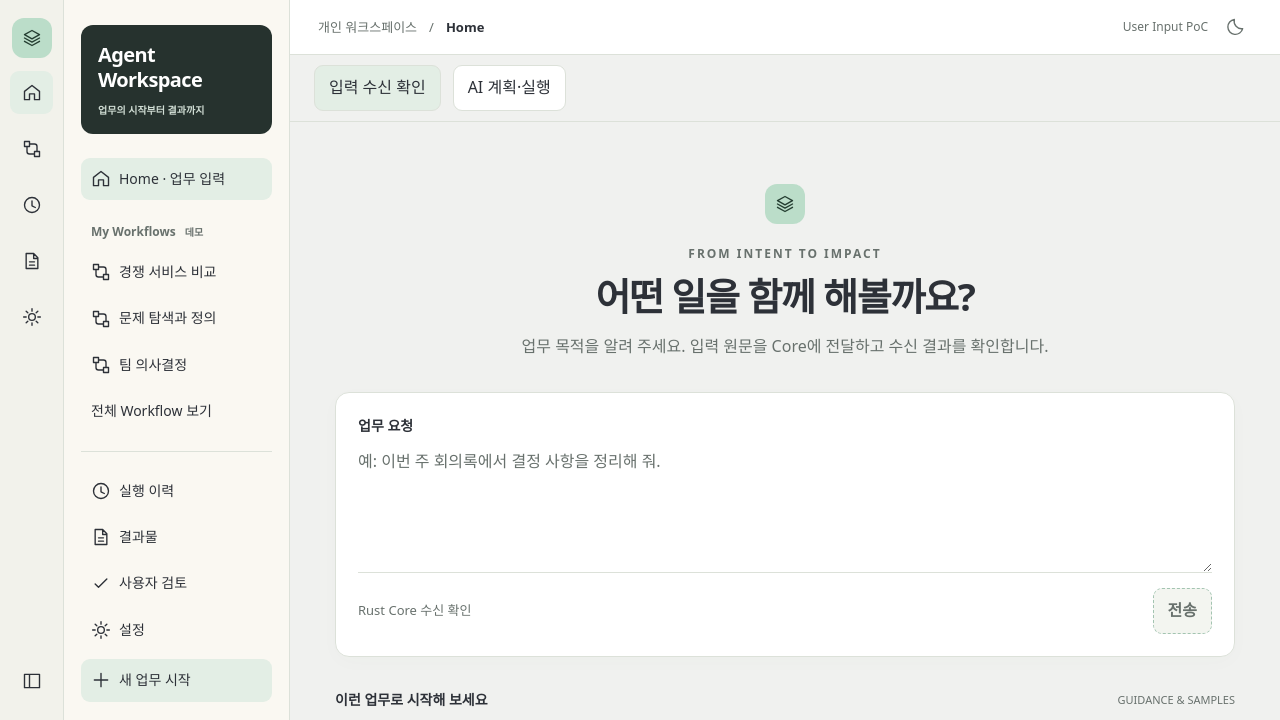
UI-10 IPC 실패와 타임아웃 기록 보존
Type "A" into the text box labelled "업무 요청" at (785, 505), box [358, 437, 1212, 572]
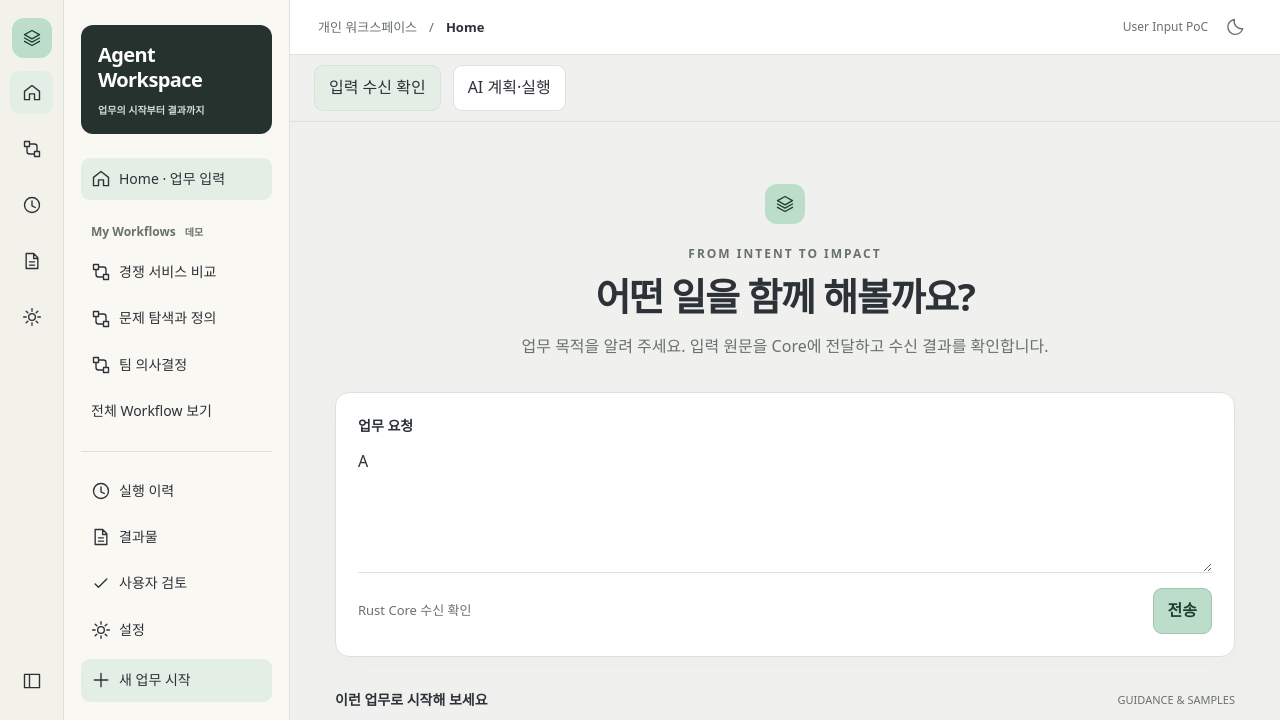
Click the button "전송" at (1182, 611), box [1152, 588, 1212, 634]
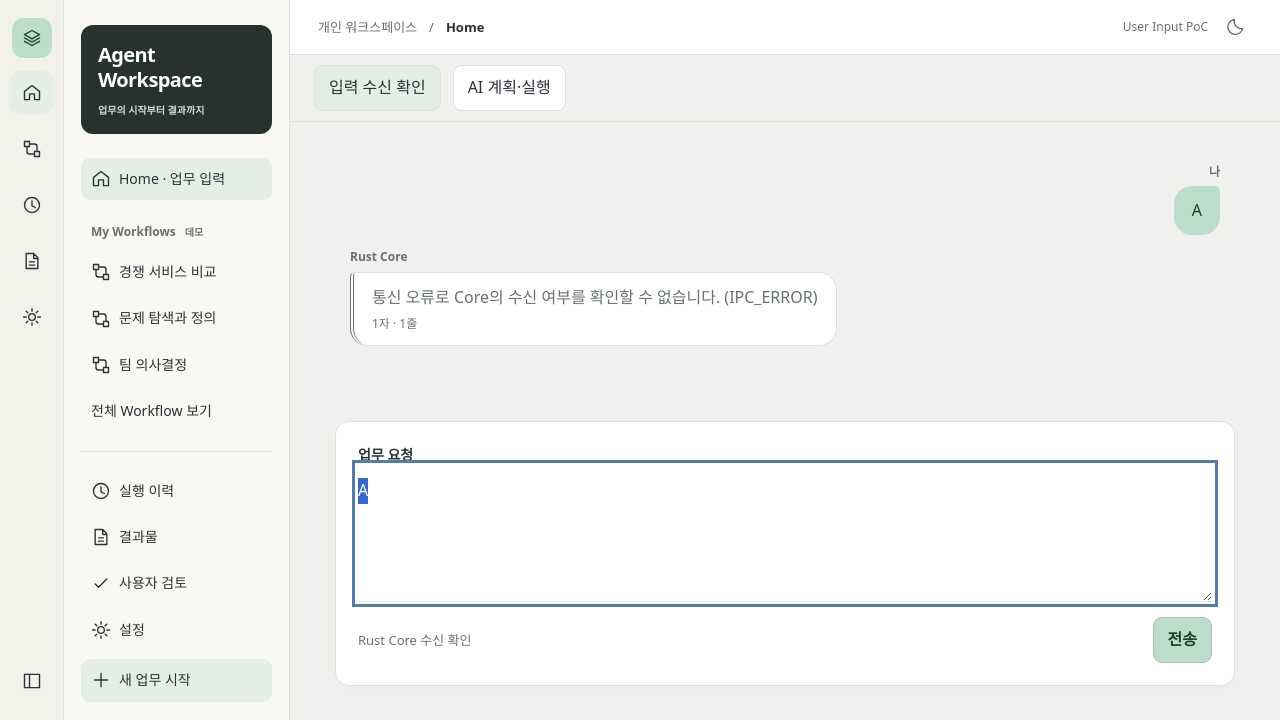
Expected: the message shows "IPC_ERROR", [372, 286, 818, 308]
Replace the text in the text box labelled "업무 요청" with "B" at (785, 534), box [358, 466, 1212, 601]
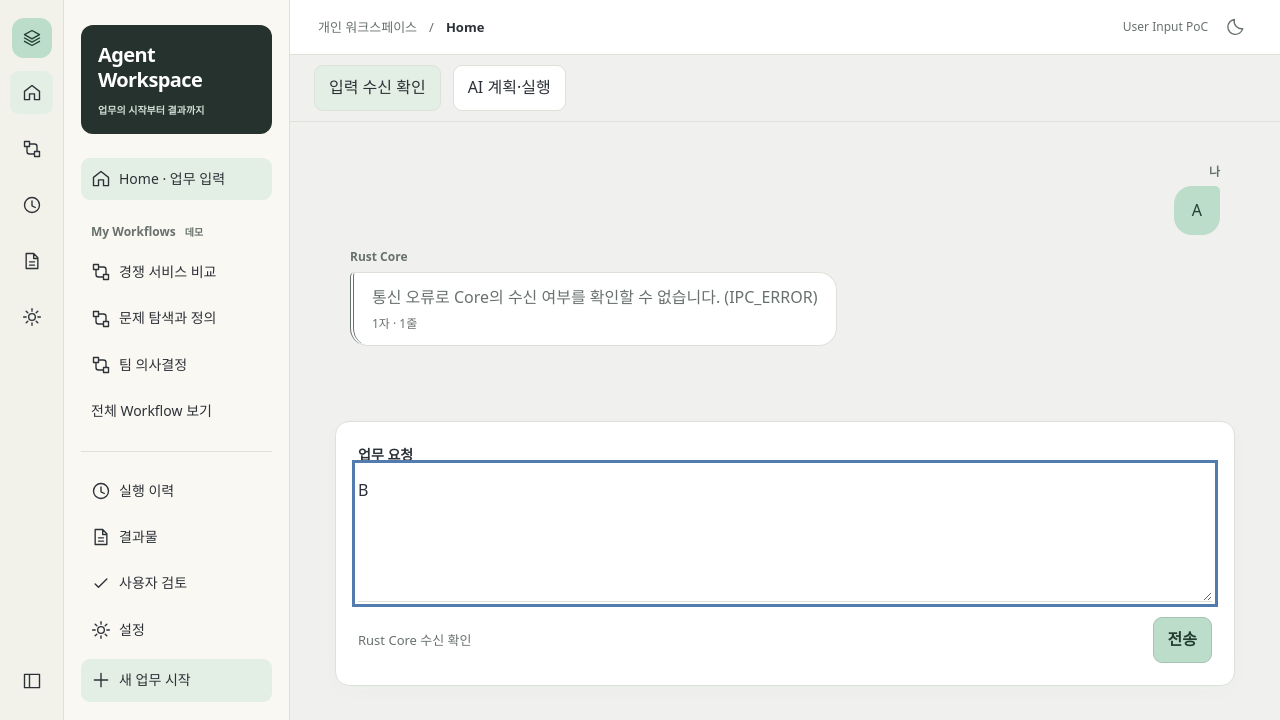
Click the button "전송" at (1182, 640), box [1152, 617, 1212, 663]
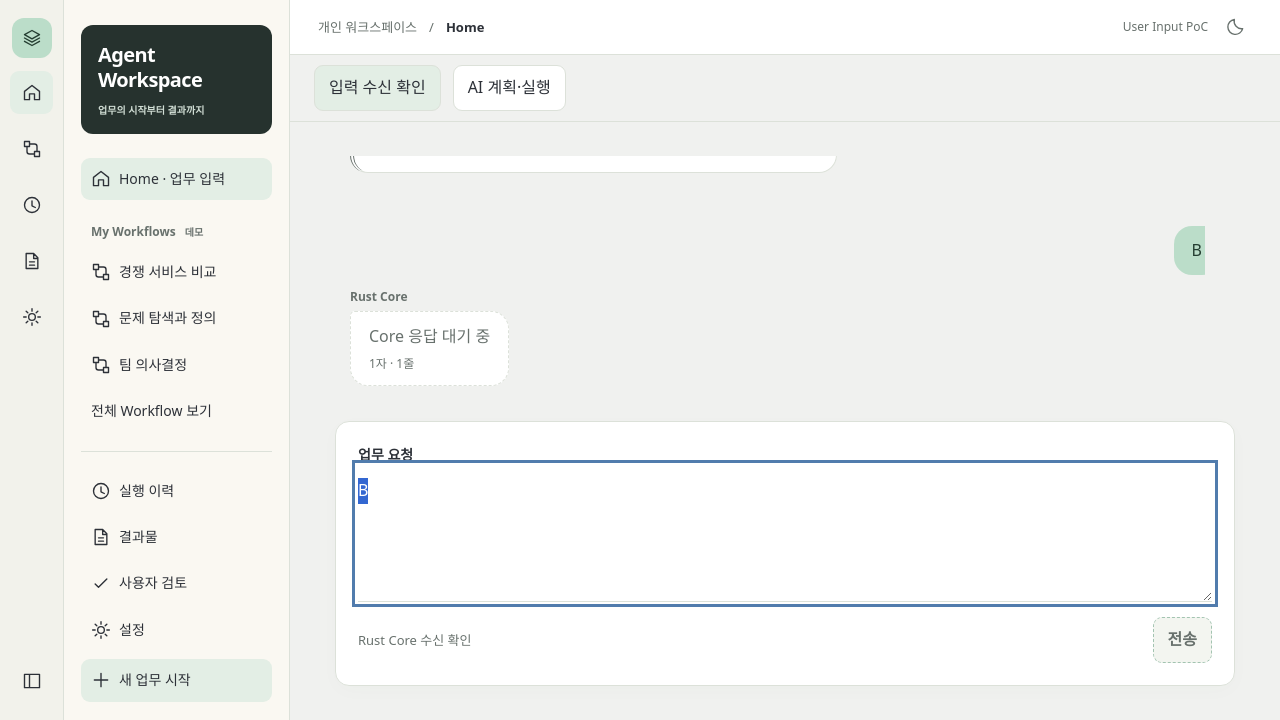
Click the button named "Workflows" at (32, 148), box [10, 127, 53, 170]
Wait 10000 ms
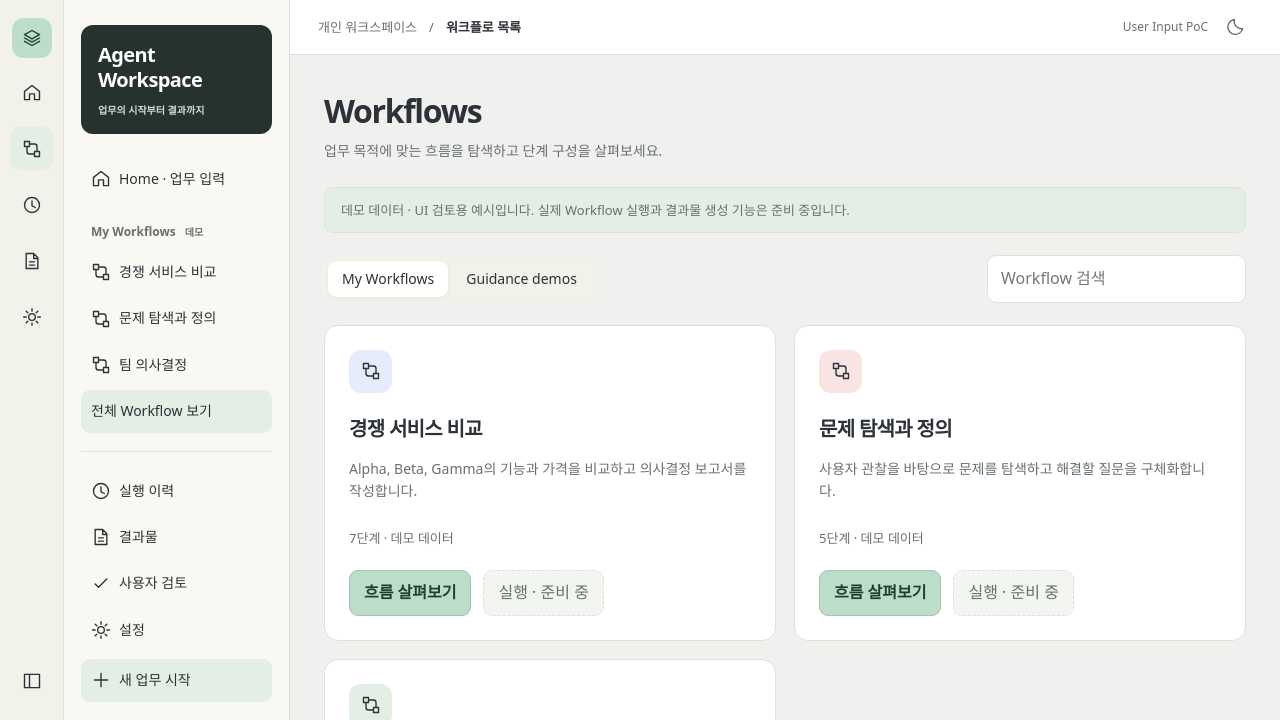
Click the button named "홈" at (32, 92), box [10, 71, 53, 114]
(page scrolled)
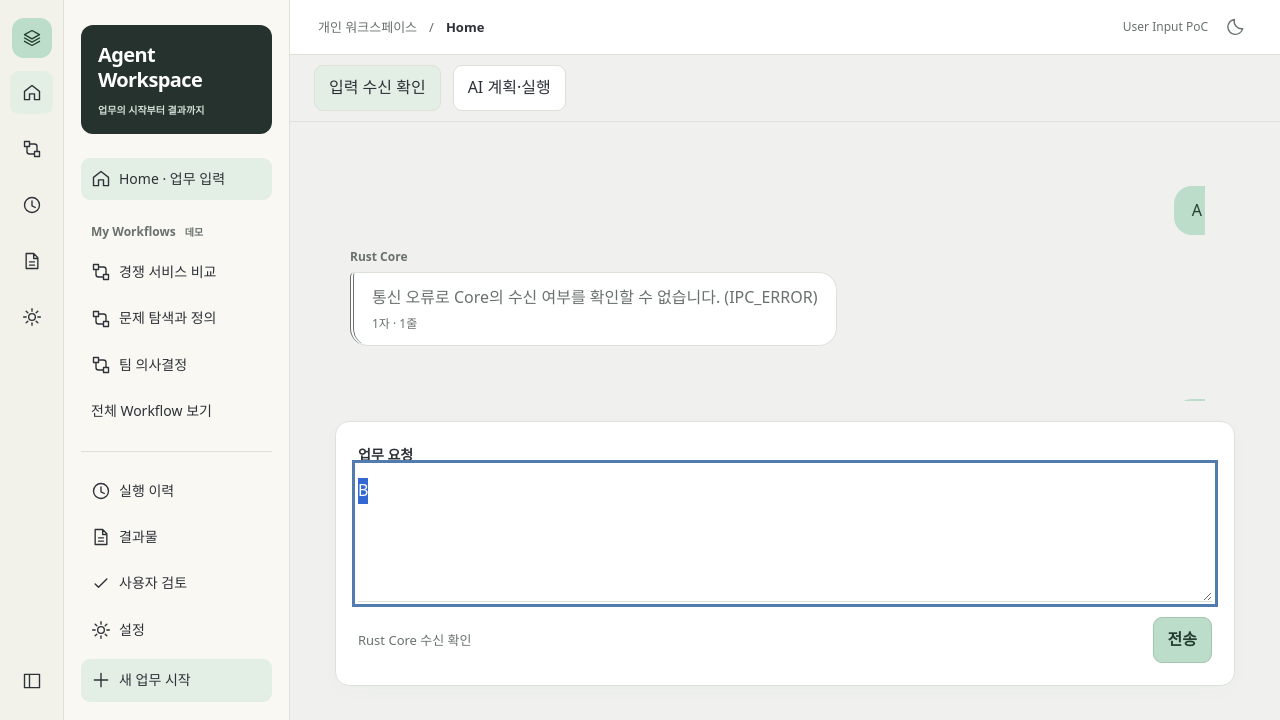
Expected: the list item shows "IPC_ERROR", [372, 286, 818, 308]
